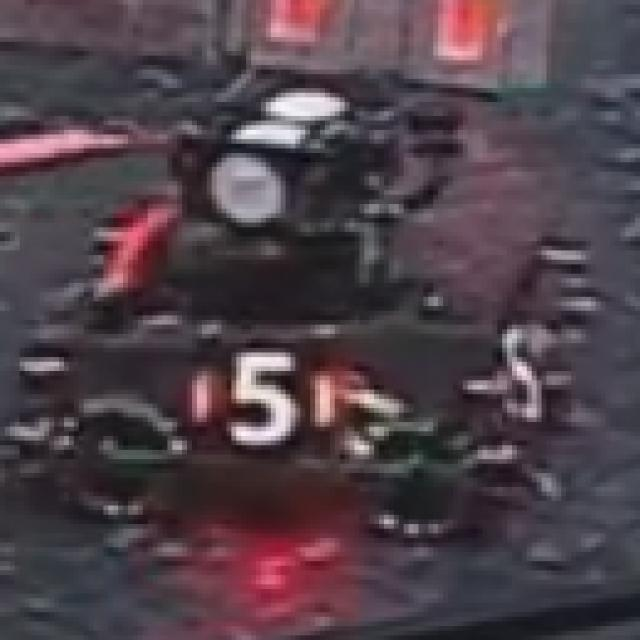R5: (192, 348, 335, 450)
